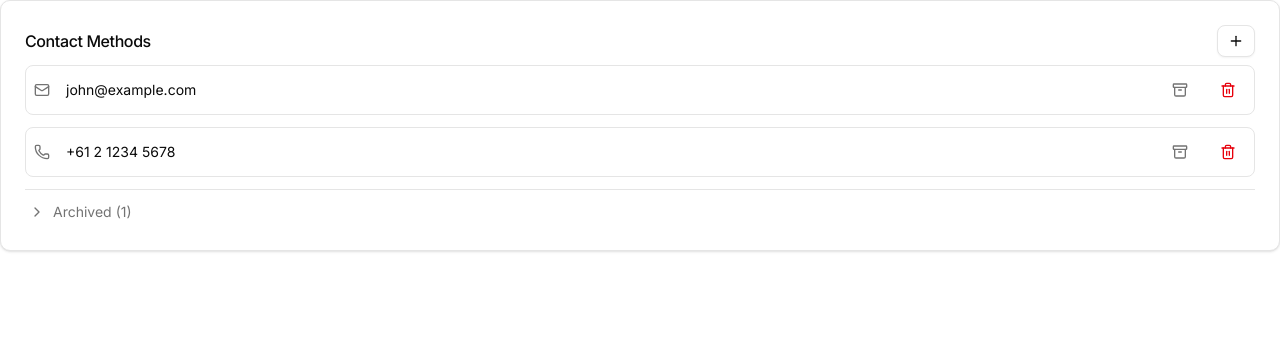
it: ContactMethodsList › archived methods › keeps archived methods behind a collapsed section
Check: the text "old@example.com" is not shown
Click the button with aria-label "Archived contact methods (1)" at (87, 212), box [25,198,1255,226]
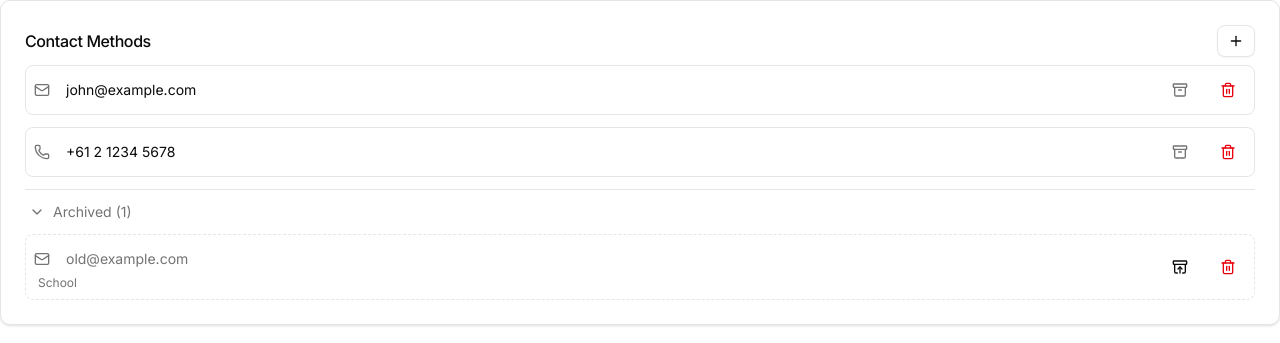
Check: the button with aria-label "Archived contact methods (1)" is expanded, box [25,198,1255,226]
Check: the button "old@example.com" is shown, box [58,243,258,275]
Check: the text "School" is shown, box [38,275,77,290]
